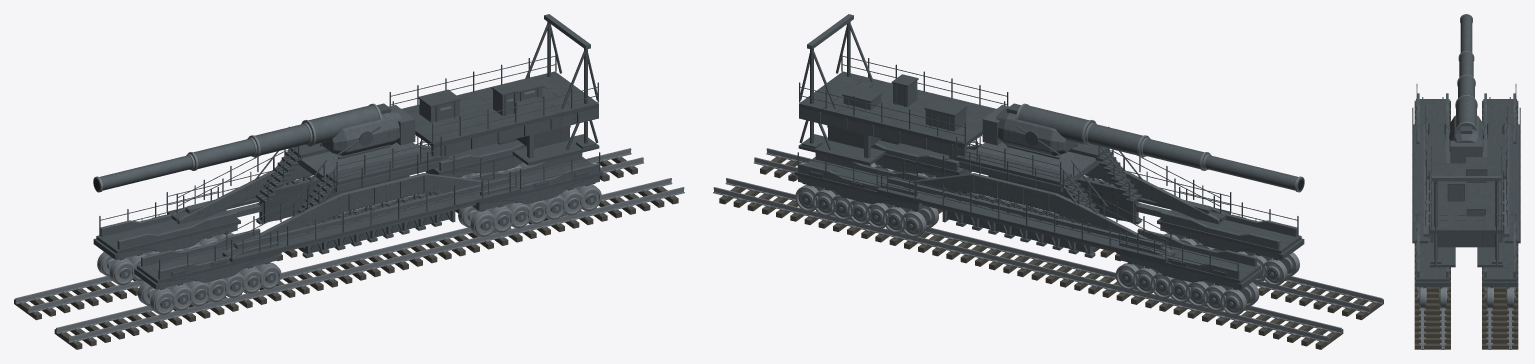
File: runtime-art-small.glb
3 renders of one model, left to right at view 1: azimuth 30°, elevation 25°; view 2: azimuth 150°, elevation 25°; view 3: azimuth 270°, elevation 25°, orthographic. The views are drawn at different scales.
Visible parts, largest first — view 1: main-outer-frame-paint-batch, walkways-deck-batch, display-rails-steel-batch, closed-cylinder-shell-paint-batch, display-rails-sleeper-batch, rear-display-deck-deck-batch, walkways-trim-batch, rear-display-deck-trim-batch, rear-display-deck-paint-batch, main-outer-frame-trim-batch, surface-decoration-trim-batch, surface-decoration-paint-batch (+1 smaller); view 2: main-outer-frame-paint-batch, walkways-deck-batch, display-rails-steel-batch, closed-cylinder-shell-paint-batch, display-rails-sleeper-batch, rear-display-deck-deck-batch, walkways-trim-batch, rear-display-deck-trim-batch, rear-display-deck-paint-batch, main-outer-frame-trim-batch, surface-decoration-trim-batch, surface-decoration-paint-batch (+1 smaller); view 3: walkways-deck-batch, rear-display-deck-deck-batch, display-rails-sleeper-batch, closed-cylinder-shell-paint-batch, main-outer-frame-paint-batch, rear-display-deck-trim-batch, surface-decoration-trim-batch, walkways-trim-batch, rear-display-deck-paint-batch, display-rails-steel-batch, closed-cylinder-shell-steel-batch, wheel-1-1-1-6 (+5 smaller).
Boxes of the visible parts, x1,y1,x2,y2 form: main-outer-frame-paint-batch: [100, 142, 599, 289]; walkways-deck-batch: [96, 140, 603, 283]; display-rails-steel-batch: [15, 148, 684, 342]; closed-cylinder-shell-paint-batch: [93, 105, 415, 191]; display-rails-sleeper-batch: [14, 157, 678, 349]; rear-display-deck-deck-batch: [402, 71, 599, 165]; walkways-trim-batch: [99, 101, 600, 279]; rear-display-deck-trim-batch: [389, 22, 598, 148]; rear-display-deck-paint-batch: [419, 14, 598, 158]; main-outer-frame-trim-batch: [119, 172, 590, 289]; surface-decoration-trim-batch: [93, 87, 606, 289]; surface-decoration-paint-batch: [120, 171, 596, 308]; main-outer-frame-paint-batch: [798, 142, 1297, 289]; walkways-deck-batch: [794, 140, 1301, 283]; display-rails-steel-batch: [713, 148, 1382, 342]; closed-cylinder-shell-paint-batch: [982, 105, 1304, 191]; display-rails-sleeper-batch: [719, 157, 1383, 349]; rear-display-deck-deck-batch: [798, 71, 995, 165]; walkways-trim-batch: [797, 101, 1298, 279]; rear-display-deck-trim-batch: [799, 22, 1008, 148]; rear-display-deck-paint-batch: [799, 14, 966, 158]; main-outer-frame-trim-batch: [807, 172, 1278, 290]; surface-decoration-trim-batch: [791, 82, 1304, 289]; surface-decoration-paint-batch: [801, 171, 1277, 308]; walkways-deck-batch: [1412, 99, 1520, 281]; rear-display-deck-deck-batch: [1429, 163, 1503, 267]; display-rails-sleeper-batch: [1414, 106, 1518, 349]; closed-cylinder-shell-paint-batch: [1449, 15, 1483, 163]; main-outer-frame-paint-batch: [1417, 93, 1515, 287]; rear-display-deck-trim-batch: [1431, 146, 1501, 259]; surface-decoration-trim-batch: [1414, 99, 1518, 286]; walkways-trim-batch: [1412, 84, 1520, 277]; rear-display-deck-paint-batch: [1430, 170, 1502, 242]; display-rails-steel-batch: [1419, 97, 1513, 349]; closed-cylinder-shell-steel-batch: [1455, 14, 1477, 130]; wheel-1-1-1-6: [1418, 287, 1426, 308].
Size of the model in its own units: 22.1 by 5.83 by 4.08.
6 materials, 3 textured.
